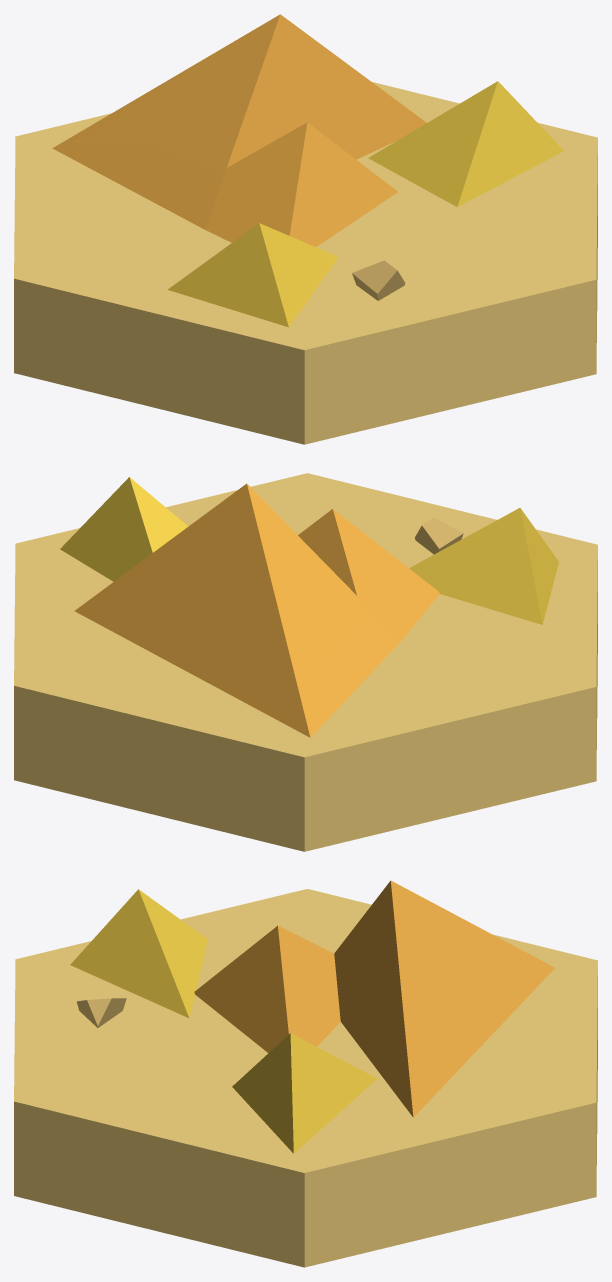
3 views of the same model, one above another, from view 1: azimuth 30°, elevation 25°; view 2: azimuth 150°, elevation 25°; view 3: azimuth 270°, elevation 25° (orthographic).
Parts seen in each view (by area): view 1: 物件_5, 物件_3, 物件_7, 物件_9, 物件_1; view 2: 物件_5, 物件_3, 物件_9, 物件_7, 物件_1; view 3: 物件_5, 物件_3, 物件_9, 物件_7, 物件_1.
Boxes of the visible parts, left/top/right/bottom form: 物件_5: left=14, top=82, right=597, bottom=444; 物件_3: left=52, top=14, right=426, bottom=246; 物件_7: left=368, top=81, right=563, bottom=207; 物件_9: left=167, top=223, right=338, bottom=327; 物件_1: left=352, top=260, right=405, bottom=300; 物件_5: left=14, top=473, right=597, bottom=851; 物件_3: left=74, top=483, right=439, bottom=737; 物件_9: left=409, top=508, right=558, bottom=624; 物件_7: left=60, top=477, right=188, bottom=581; 物件_1: left=415, top=517, right=463, bottom=554; 物件_5: left=14, top=889, right=597, bottom=1267; 物件_3: left=194, top=880, right=554, bottom=1117; 物件_9: left=70, top=889, right=207, bottom=1018; 物件_7: left=232, top=1033, right=377, bottom=1153; 物件_1: left=76, top=998, right=126, bottom=1027.
Size of the model in its own units: 129 by 112 by 53.59.
